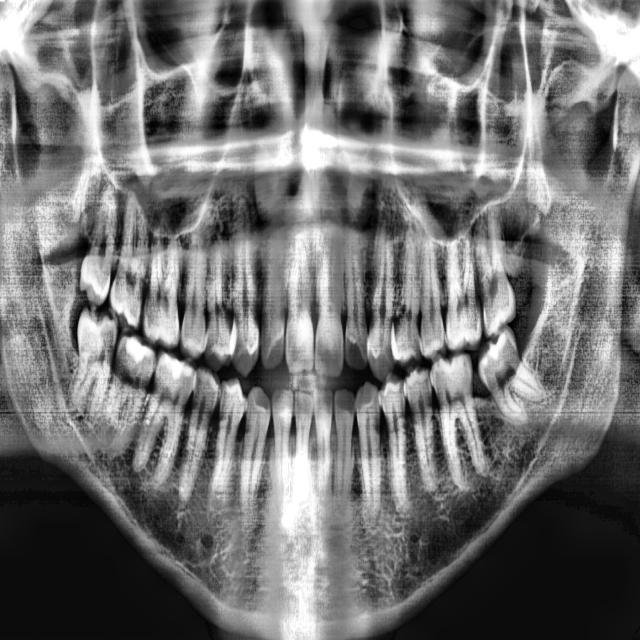karies: (343, 330, 370, 379)
